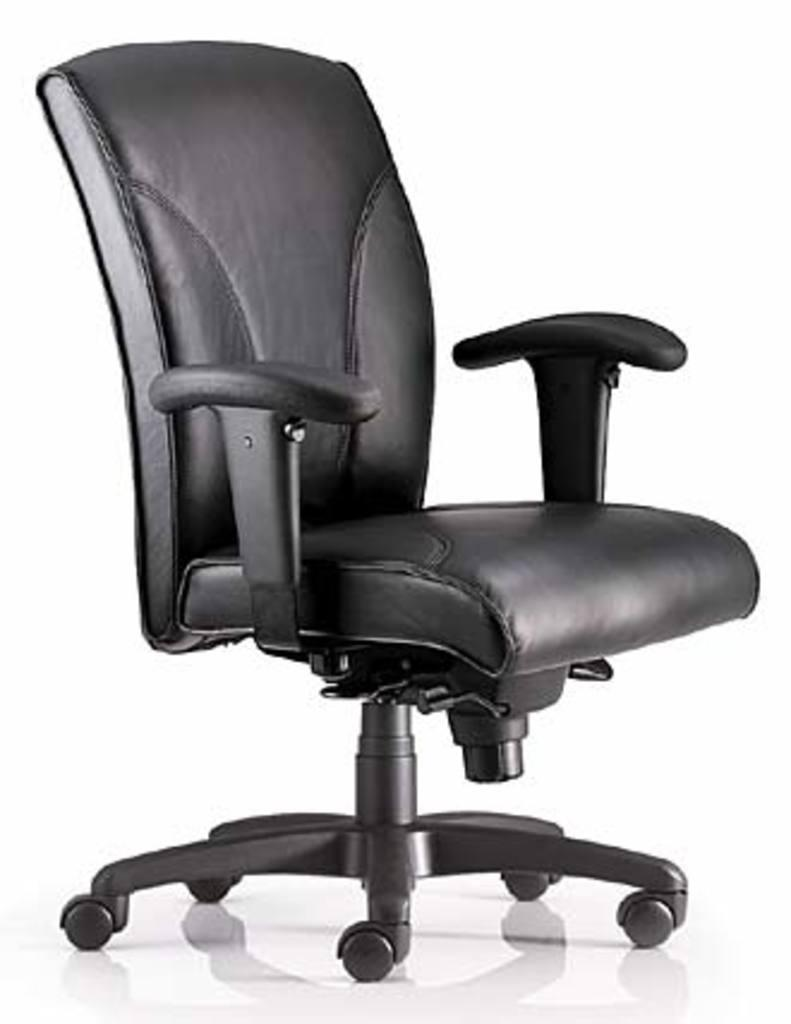Chair: (41, 34, 755, 986)
